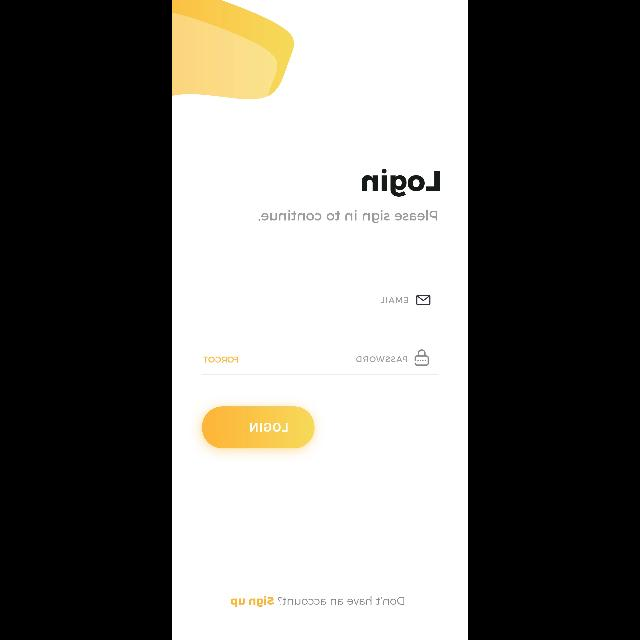icon: (415, 350, 429, 366), (416, 295, 430, 305)
input: (202, 350, 438, 374), (202, 295, 438, 317)
text: (258, 210, 438, 223), (362, 169, 440, 197), (230, 596, 404, 606), (357, 356, 408, 362), (204, 357, 238, 363), (380, 297, 408, 303)
textbutton: (202, 407, 314, 449)
